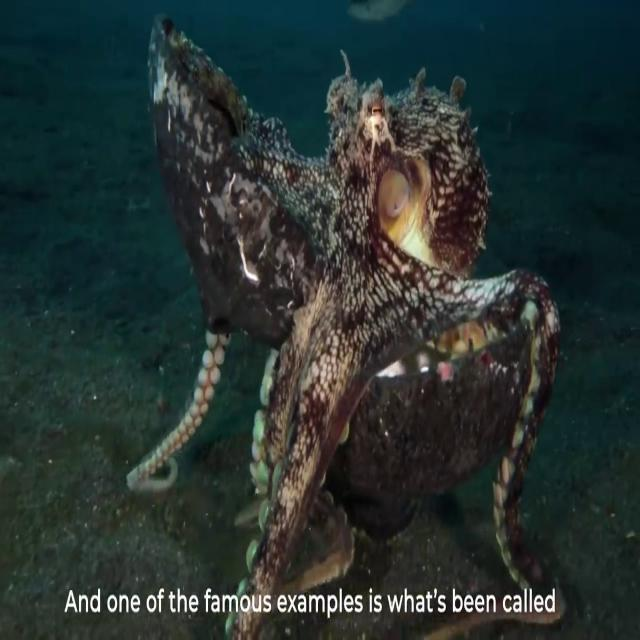octopus: (124, 12, 570, 640)
